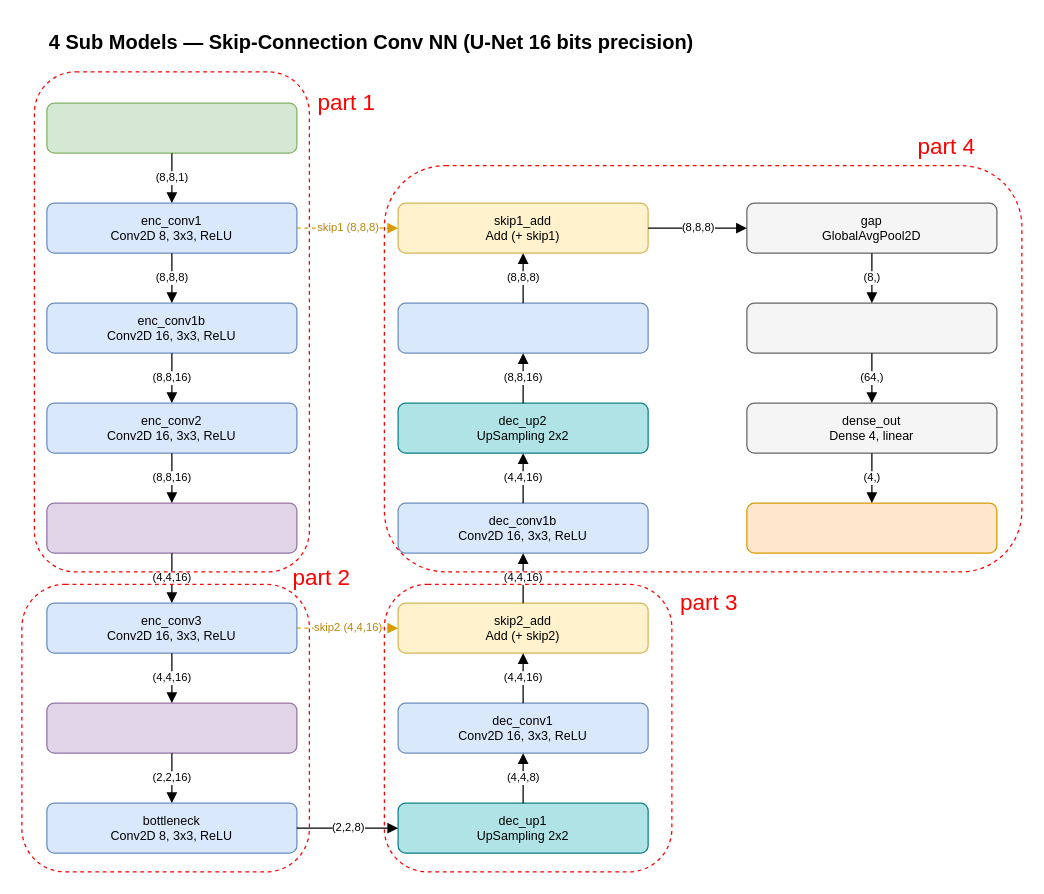
Image size: 1044x894. Some labels were removed from this diagram. Each missing label, with the centre of its shape:
"dec_conv2 Conv2D 8, 3x3, ReLU" goes at [522,327].
"dense1 Dense 64, ReLU" goes at [871,327].
"enc_pool1 MaxPool 2x2" goes at [171,527].
"enc_pool2 MaxPool 2x2" goes at [171,727].
"inp Input (8,8,1)" goes at [171,127].
"output (4,)" goes at [871,527].
